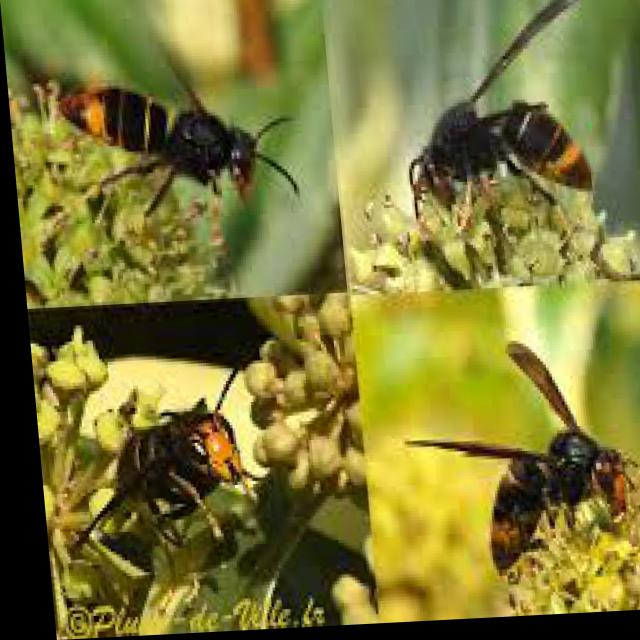Vespa Velutina: (378, 329, 639, 591), (41, 7, 304, 248), (382, 0, 605, 257), (48, 355, 276, 575)
